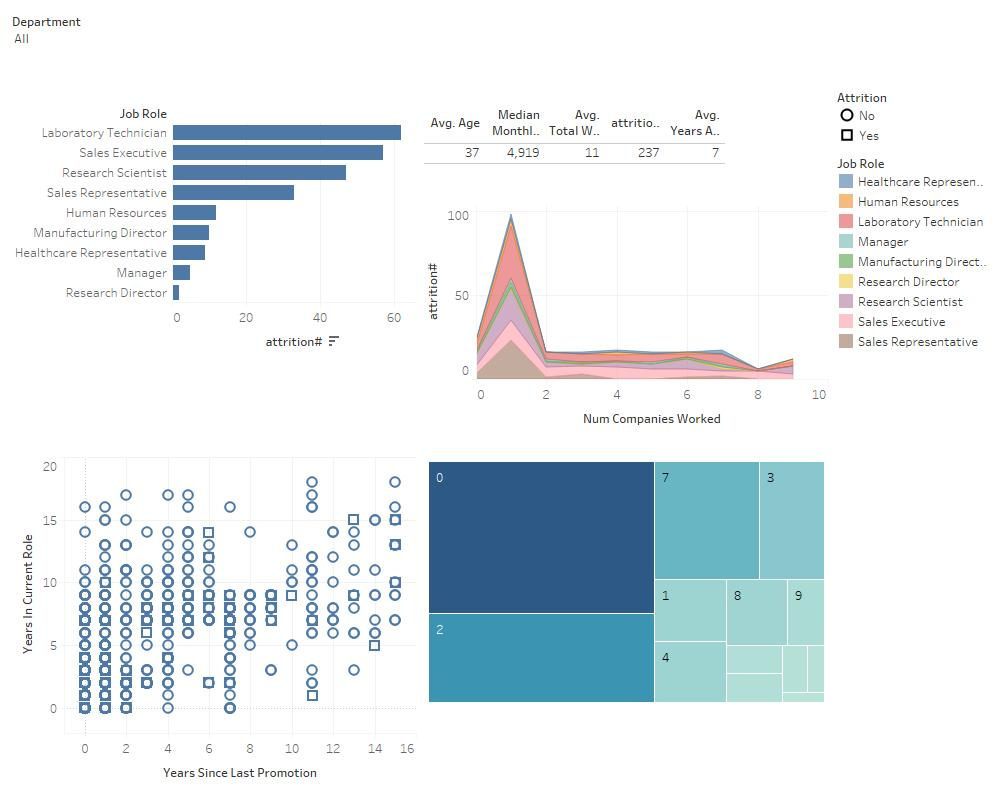

The dashboard page shown, as its layout file describes it:
{"tool":"tableau","page":{"name":"Dashboard 1","canvas":[1000,800],"ordinal":0},"visuals":[{"type":"filter","title":"Sheet 1","param":"[federated.0lxs7c20ec9hwl1asofub1mnfw7i].[none:Department:nk]","box":[8,8,984,52]},{"type":"worksheet","title":"Sheet 2","mark":"Automatic","rows":["JobRole"],"cols":["Calculation_1770196150727868416"],"box":[8,83,412,354.5]},{"type":"worksheet","title":"Sheet 1","mark":"Automatic","box":[420,83,412,104]},{"type":"legend","title":"Sheet 3","param":"[federated.0lxs7c20ec9hwl1asofub1mnfw7i].[none:Attrition:nk]","box":[832,83,160,66]},{"type":"legend","title":"Sheet 6","param":"[federated.0lxs7c20ec9hwl1asofub1mnfw7i].[none:JobRole:nk]","box":[832,149,160,208]},{"type":"worksheet","title":"Sheet 6","mark":"Area","rows":["Calculation_1770196150727868416"],"cols":["NumCompaniesWorked"],"box":[420,187,412,250.5]},{"type":"worksheet","title":"Sheet 3","mark":"Automatic","rows":["YearsInCurrentRole"],"cols":["YearsSinceLastPromotion"],"box":[8,437.5,412,354.5]},{"type":"worksheet","title":"Sheet 4","mark":"Automatic","box":[420,437.5,412,354.5]}]}

Visuals, with their boxes in screenshot pixels (x1, y1, x2, y2), scaled from the page's 1000x800 canvas onto the 1000x800 screenshot:
"Sheet 1" filter: (left=8, top=8, right=992, bottom=60)
"Sheet 2" worksheet: (left=8, top=83, right=420, bottom=438)
"Sheet 1" worksheet: (left=420, top=83, right=832, bottom=187)
"Sheet 3" legend: (left=832, top=83, right=992, bottom=149)
"Sheet 6" legend: (left=832, top=149, right=992, bottom=357)
"Sheet 6" worksheet (Area marks): (left=420, top=187, right=832, bottom=438)
"Sheet 3" worksheet: (left=8, top=438, right=420, bottom=792)
"Sheet 4" worksheet: (left=420, top=438, right=832, bottom=792)
